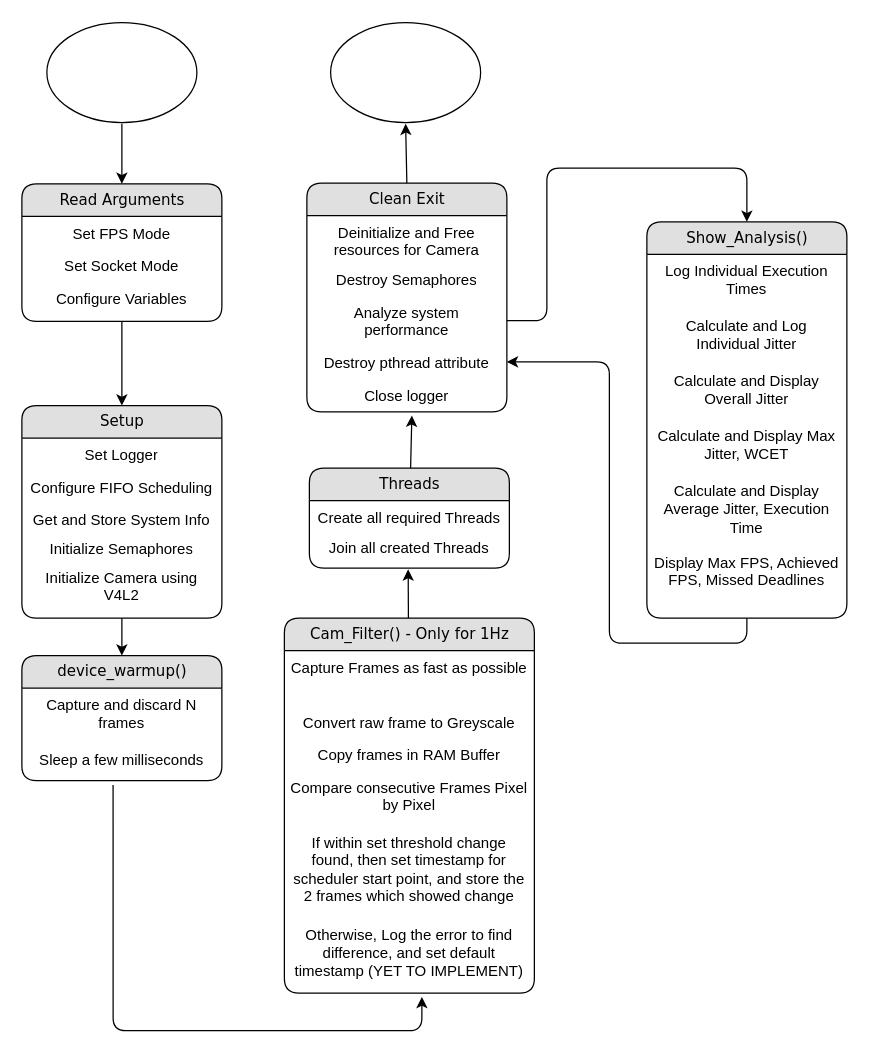
Some shapes in this 869 by 1063 pixel diagram are drawn without their labels. The centre of each missing label's shape, as x and y in pixels:
End: pixel 405 71
Start: pixel 121 71
